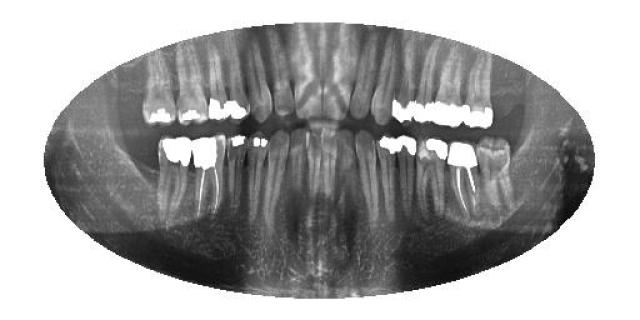Fillings: (171, 46, 209, 126), (156, 134, 192, 218), (142, 52, 178, 128), (462, 55, 497, 133), (435, 45, 465, 129), (415, 37, 443, 125), (419, 136, 449, 218), (248, 128, 270, 222), (392, 43, 417, 124), (226, 134, 249, 211), (378, 134, 398, 218), (206, 39, 226, 122), (228, 44, 248, 120), (397, 135, 415, 217)
Implant: (190, 132, 226, 220), (446, 141, 482, 215)
